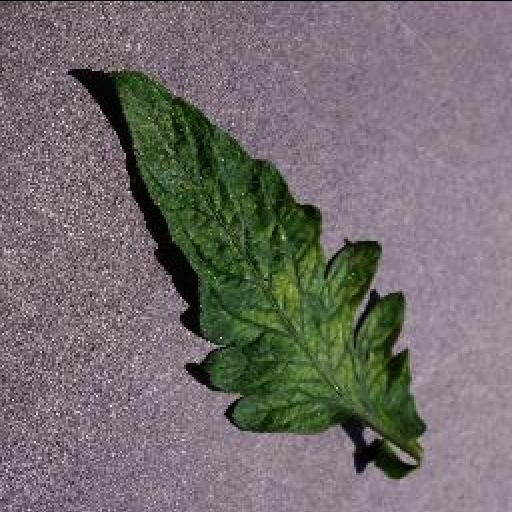disease_tomato: (103, 66, 427, 446)
